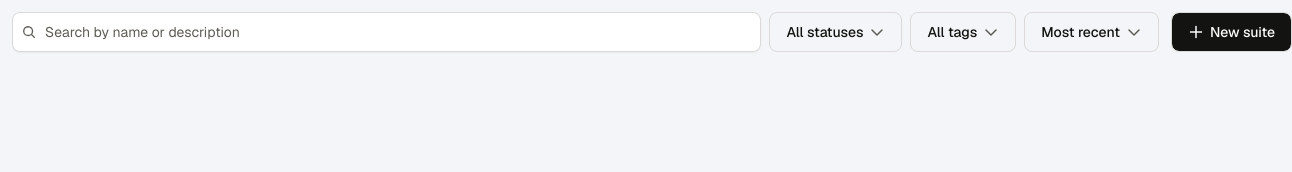
Test: SuiteListToolbar search › applies the text of an input event that says the composition is over, even without a compositionend
Type "に" into the search field with test id "suite-search" at (387, 32), box [12, 12, 761, 52]
Wait 1000 ms
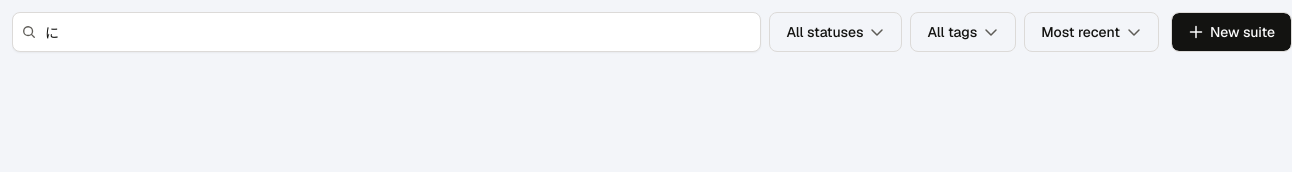
Replace the text in the search field with test id "suite-search" with "にほん" at (387, 32), box [12, 12, 761, 52]
Wait 300 ms
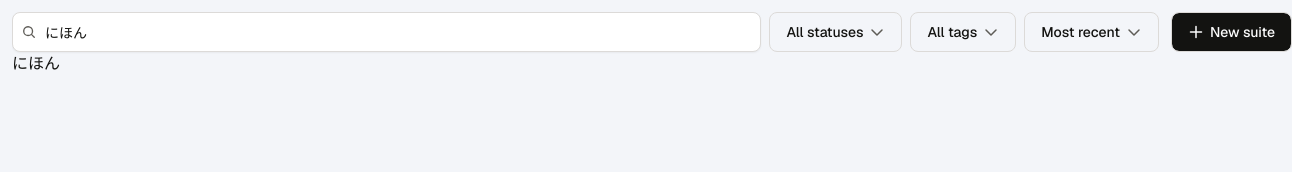
Result: the text with test id "applied" reads "にほん" at [12, 53, 60, 74]
